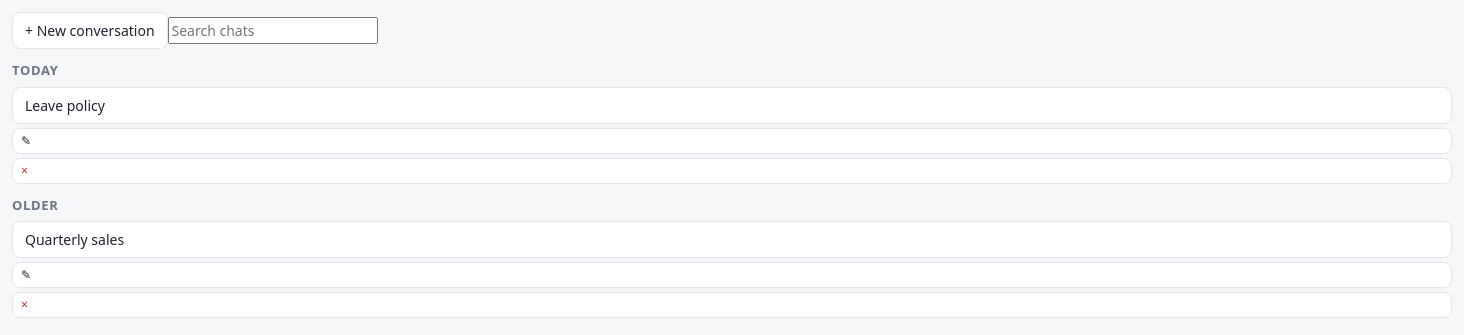
Test case: ConversationList › renames in place: Enter saves, Escape cancels, an unchanged or empty title is ignored
Click the button named "Rename conversation Leave policy" at [26, 140], box [12,128,1452,154]
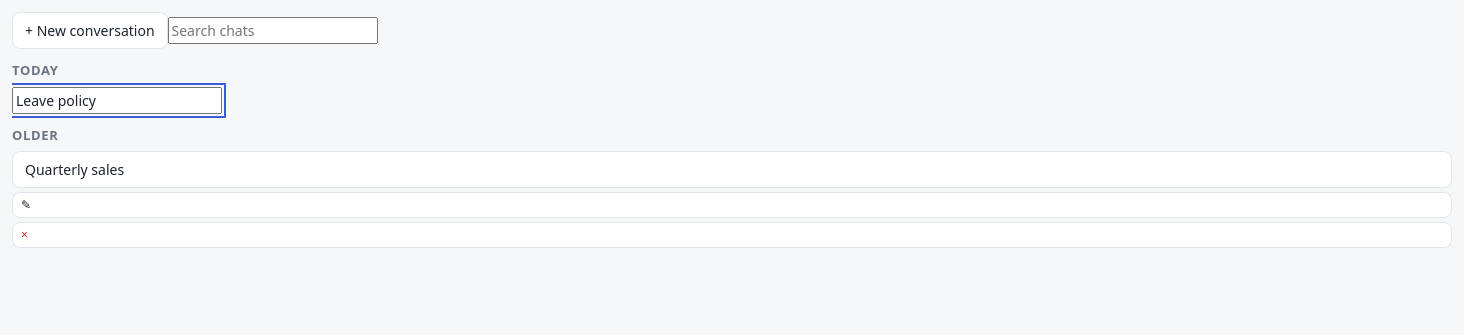
Replace the text in the field named "Rename Leave policy" with "HR leave rules" at [117, 100], box [12,86,222,114]
Then press Enter
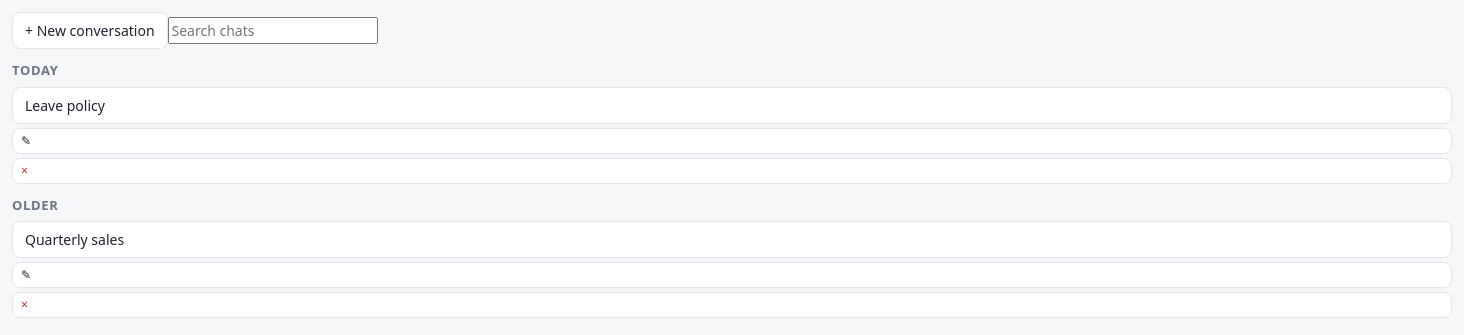
Click the button named "Rename conversation Quarterly sales" at [26, 274], box [12,262,1452,288]
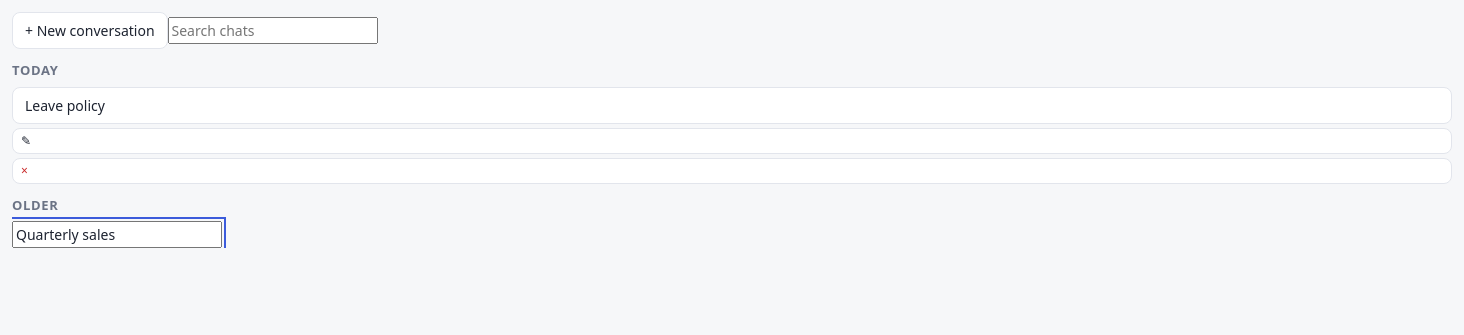
Type " x" into the field named "Rename Quarterly sales" at [117, 234], box [12,221,222,248]
Then press Escape
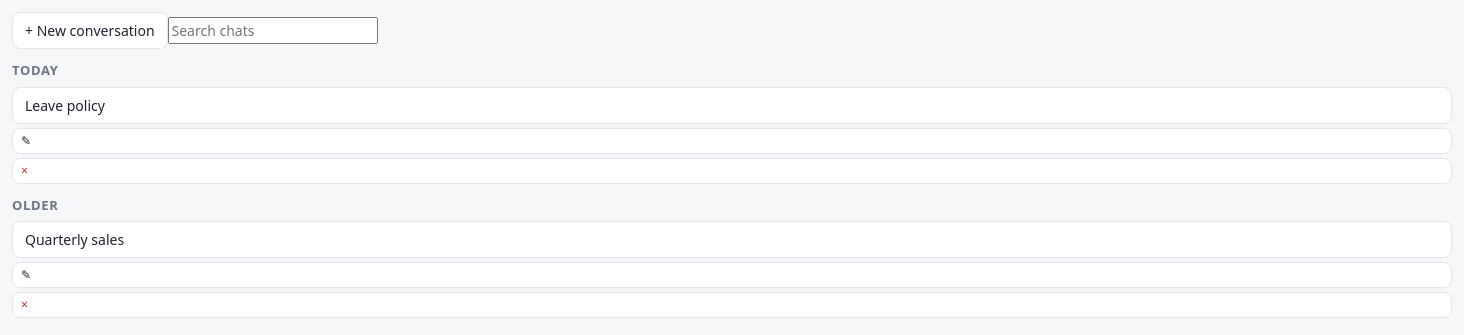
Check: the button "Quarterly sales" is shown, box [12,221,1452,258]
